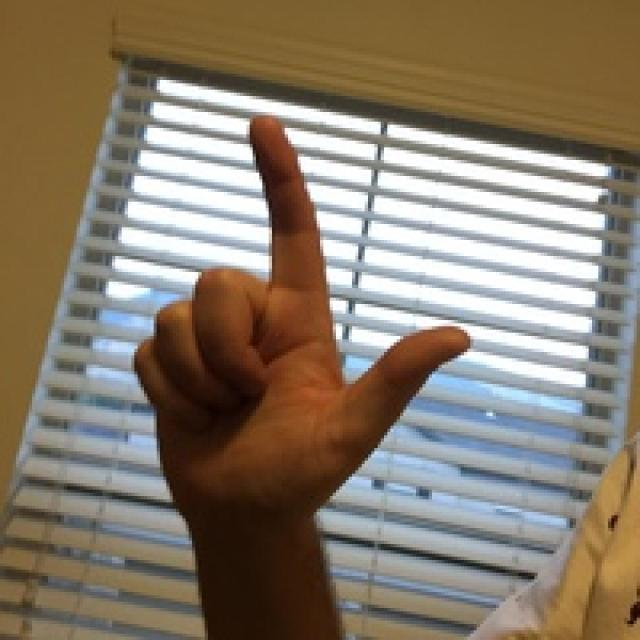L: (110, 93, 493, 532)
